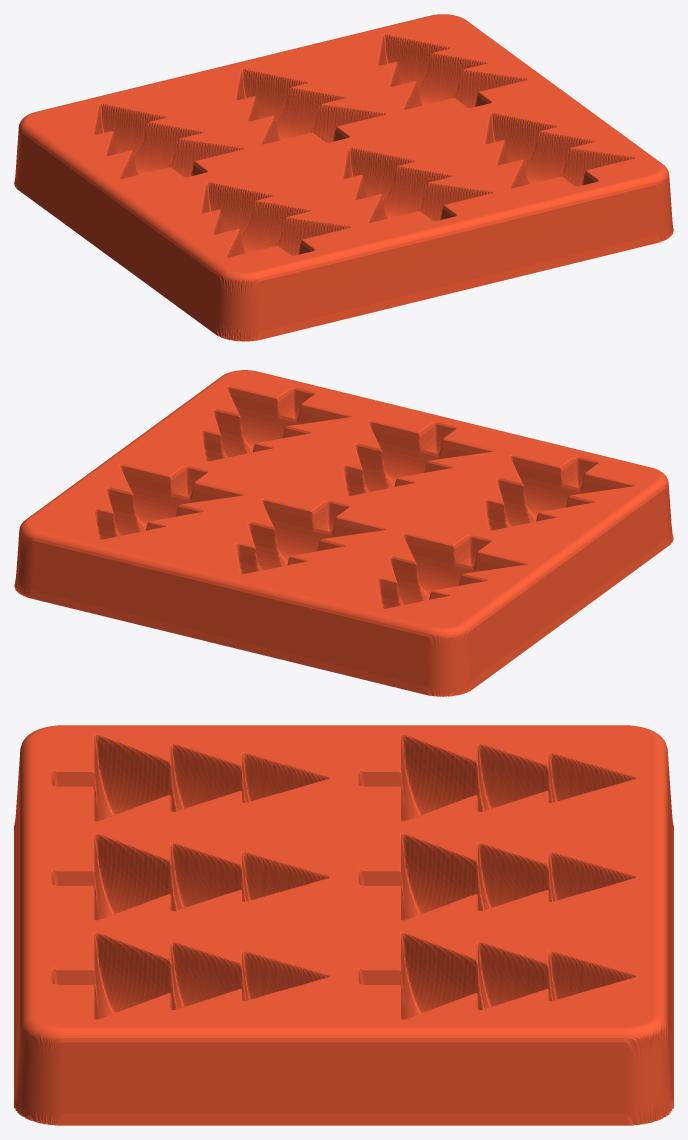
Rendered from mold.glb.
3 views of the same model, one above another, from view 1: azimuth 30°, elevation 25°; view 2: azimuth 150°, elevation 25°; view 3: azimuth 270°, elevation 25° (orthographic). The views are drawn at different scales.
Parts seen in each view (by area): view 1: geometry_0; view 2: geometry_0; view 3: geometry_0.
Boxes of the visible parts, x1,y1,x2,y2 form: geometry_0: [14, 14, 673, 341]; geometry_0: [14, 370, 673, 696]; geometry_0: [14, 725, 673, 1125].
Size of the model in its own units: 0.1389 by 0.0185 by 0.1222.
